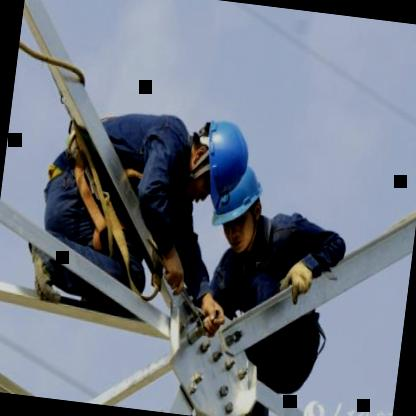helmet: (177, 112, 252, 204), (206, 158, 264, 258)
